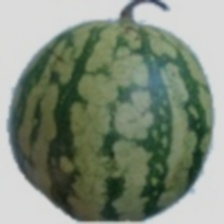watermelon: (43, 33, 216, 172)
